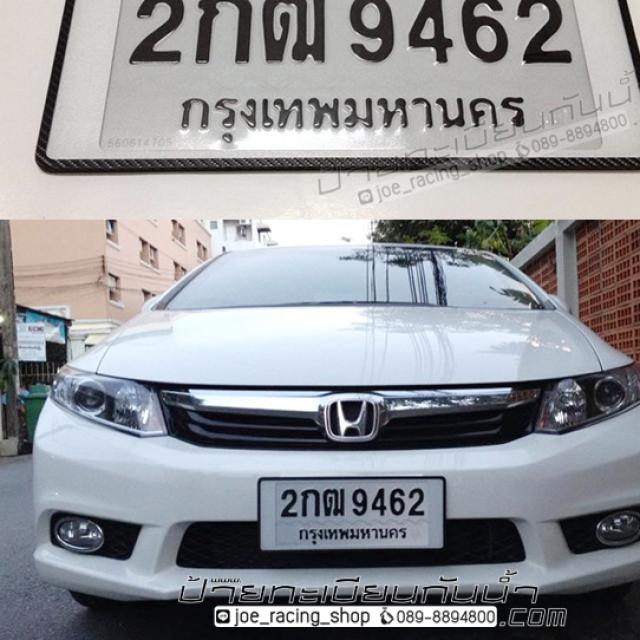license_plate: (256, 474, 450, 558)
